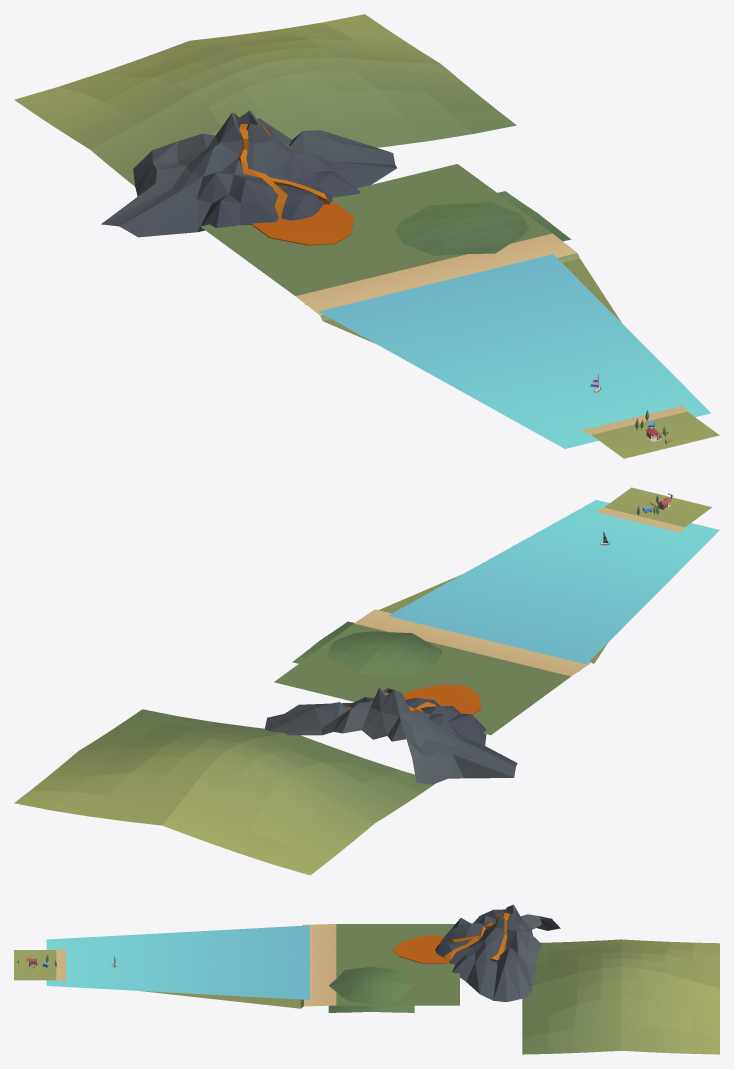
The model's file is Anvils.fbx.
3 renders of one model, top to bottom at view 1: azimuth 30°, elevation 25°; view 2: azimuth 150°, elevation 25°; view 3: azimuth 270°, elevation 25°, orthographic. The views are drawn at different scales.
Parts seen in each view (by area): view 1: hill1.002, Sea.001, Plane.005, Volcano, hill1.001, lava; view 2: hill1.002, Sea.001, Plane.005, Volcano, hill1.001, lava; view 3: hill1.002, Sea.001, Plane.005, Volcano, hill1.001, lava.
Part boxes in pixels (<box>): hill1.002: <box>14,14,516,186</box>; Sea.001: <box>305,254,710,448</box>; Plane.005: <box>200,164,719,458</box>; Volcano: <box>101,110,396,237</box>; hill1.001: <box>395,191,571,255</box>; lava: <box>237,124,354,245</box>; hill1.002: <box>14,709,435,875</box>; Sea.001: <box>388,500,719,671</box>; Plane.005: <box>274,487,712,735</box>; Volcano: <box>265,688,517,784</box>; hill1.001: <box>292,621,442,675</box>; lava: <box>348,684,481,714</box>; hill1.002: <box>522,939,719,1054</box>; Sea.001: <box>46,925,309,999</box>; Plane.005: <box>14,924,459,1008</box>; Volcano: <box>435,904,560,1002</box>; hill1.001: <box>328,966,414,1012</box>; lava: <box>393,912,510,963</box>.
Size of the model in its own units: 130 by 25.68 by 285.
